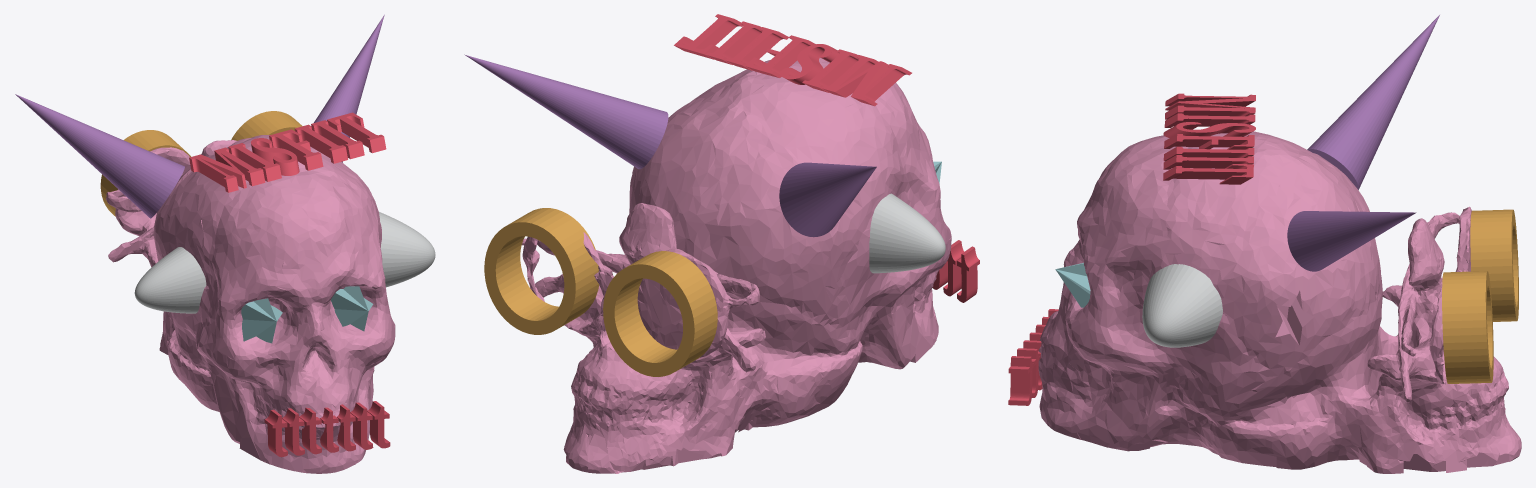
The model's file is tinkercad_skull.glb.
3 renders of one model, left to right at view 1: azimuth 30°, elevation 25°; view 2: azimuth 150°, elevation 25°; view 3: azimuth 270°, elevation 25°, orthographic. The views are drawn at different scales.
Visible parts, largest first — view 1: Mesh_Mesh_head_geo.001_lambert2SG.001; view 2: Mesh_Mesh_head_geo.001_lambert2SG.001; view 3: Mesh_Mesh_head_geo.001_lambert2SG.001.
Part boxes in pixels (x1,y1,x2,y2): Mesh_Mesh_head_geo.001_lambert2SG.001: [15, 14, 435, 473]; Mesh_Mesh_head_geo.001_lambert2SG.001: [464, 14, 979, 473]; Mesh_Mesh_head_geo.001_lambert2SG.001: [1008, 15, 1521, 473].
Bounding box in the file's own units: 0.0454 × 0.0342 × 0.0497.
